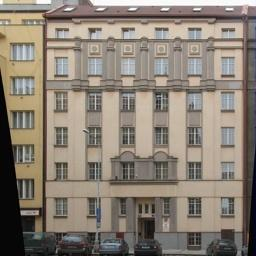building: (44, 4, 256, 234)
